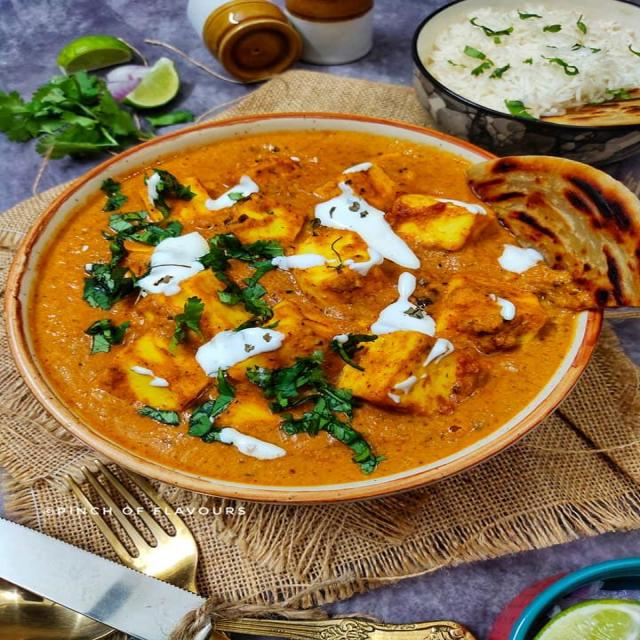rice: (393, 4, 640, 129)
